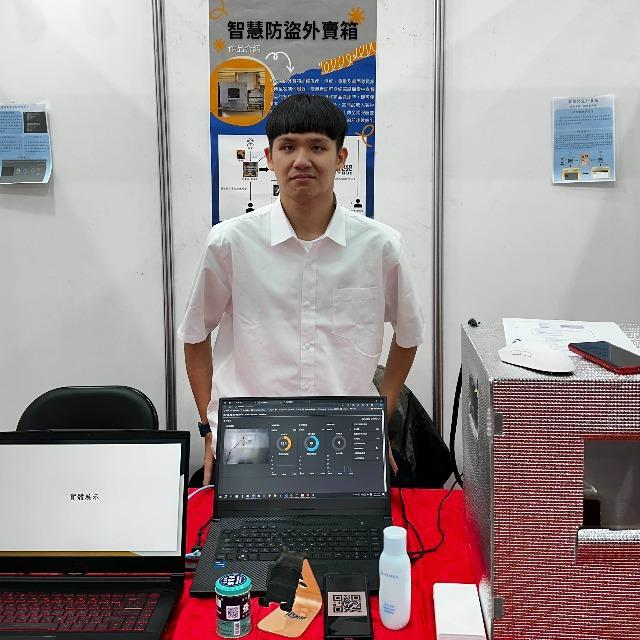NoHelmet: (263, 92, 350, 201)
NoVest: (201, 212, 412, 399)
